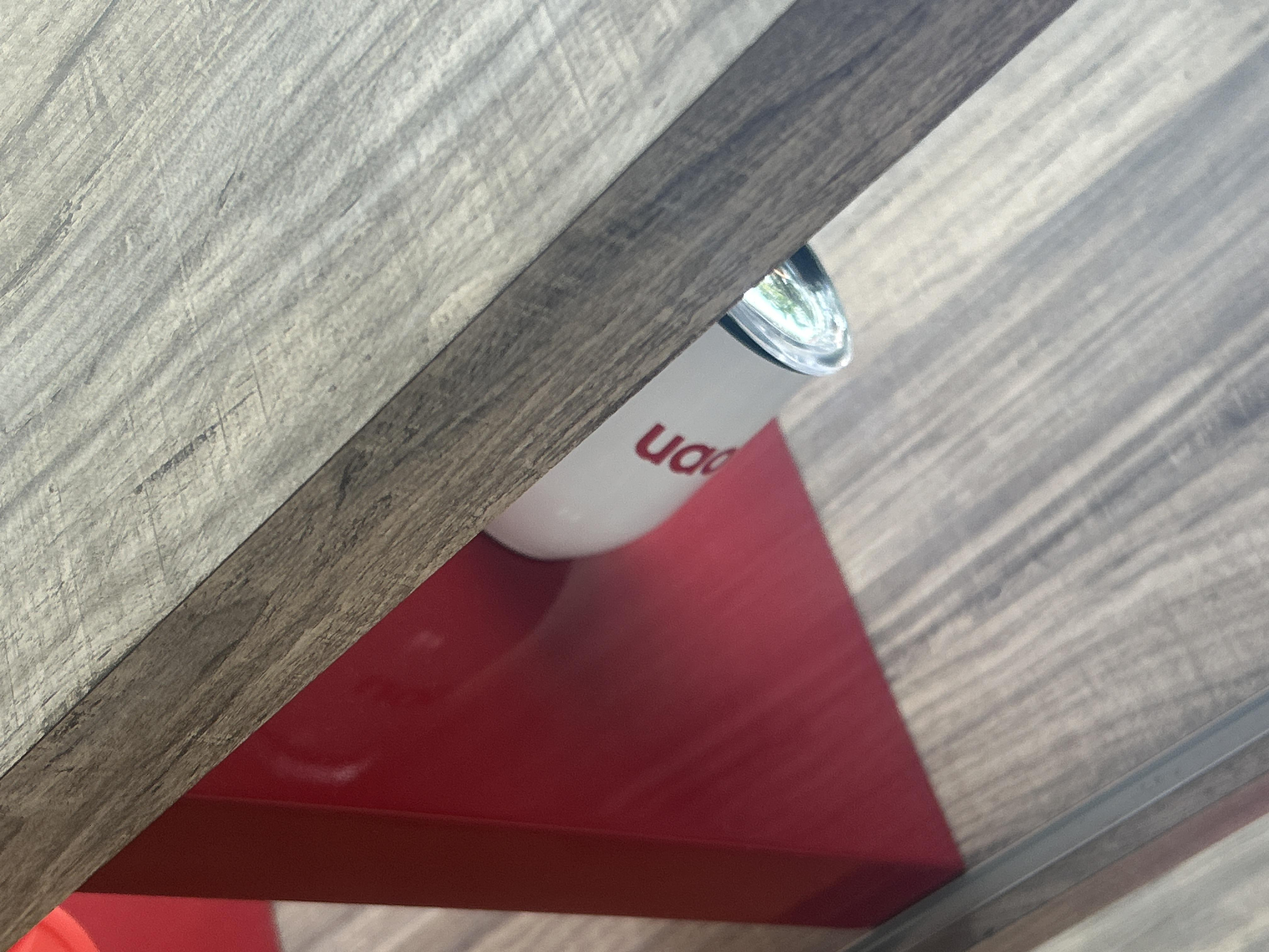vaso: (491, 253, 852, 558)
